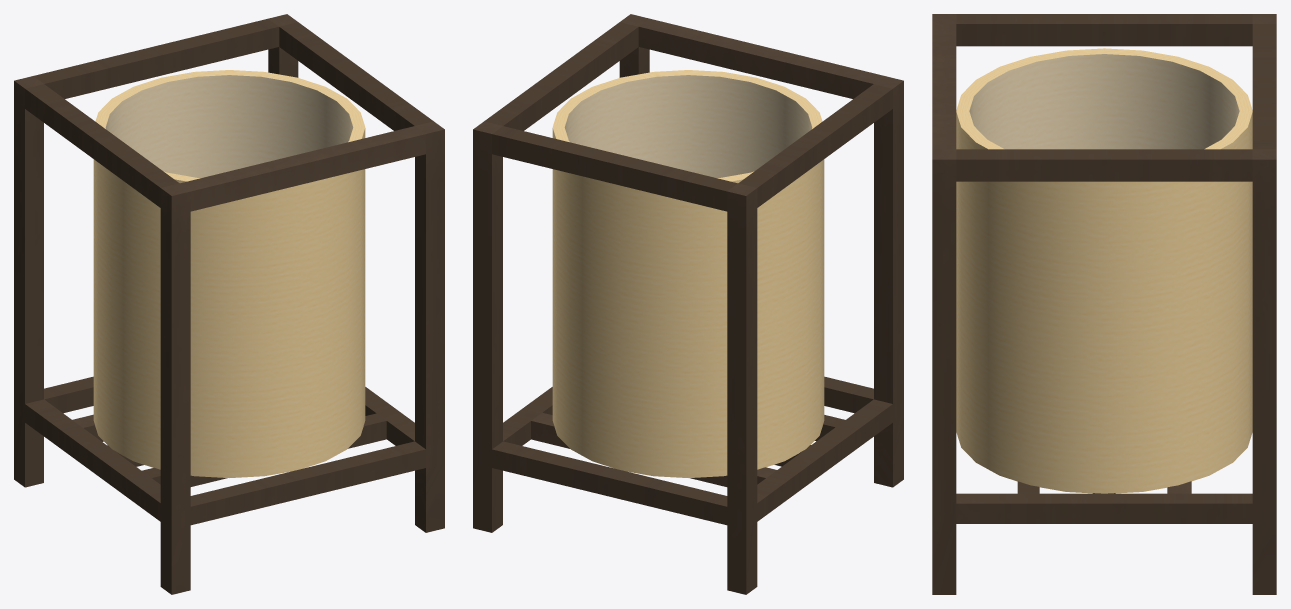
The model's file is soumatou_1_blue.fbx.
The picture shows the model from 3 angles, left to right: view 1: azimuth 30°, elevation 25°; view 2: azimuth 150°, elevation 25°; view 3: azimuth 270°, elevation 25°; orthographic projection. The views are drawn at different scales.
Visible parts, largest first — view 1: soumatou1; view 2: soumatou1; view 3: soumatou1.
Boxes of the visible parts, box(x1,y1,x2,y2) form: soumatou1: box(14, 14, 444, 594); soumatou1: box(473, 14, 903, 594); soumatou1: box(932, 14, 1276, 594).
Bounding box in the file's own units: 0.215 × 0.3 × 0.215.
2 materials, 2 textured.
